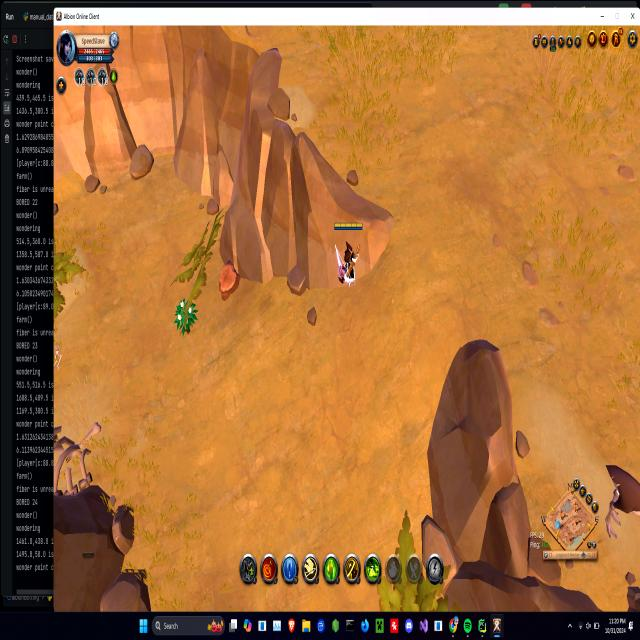hide: (175, 296, 196, 336)
ore: (599, 453, 640, 551)
red: (333, 220, 363, 287)
